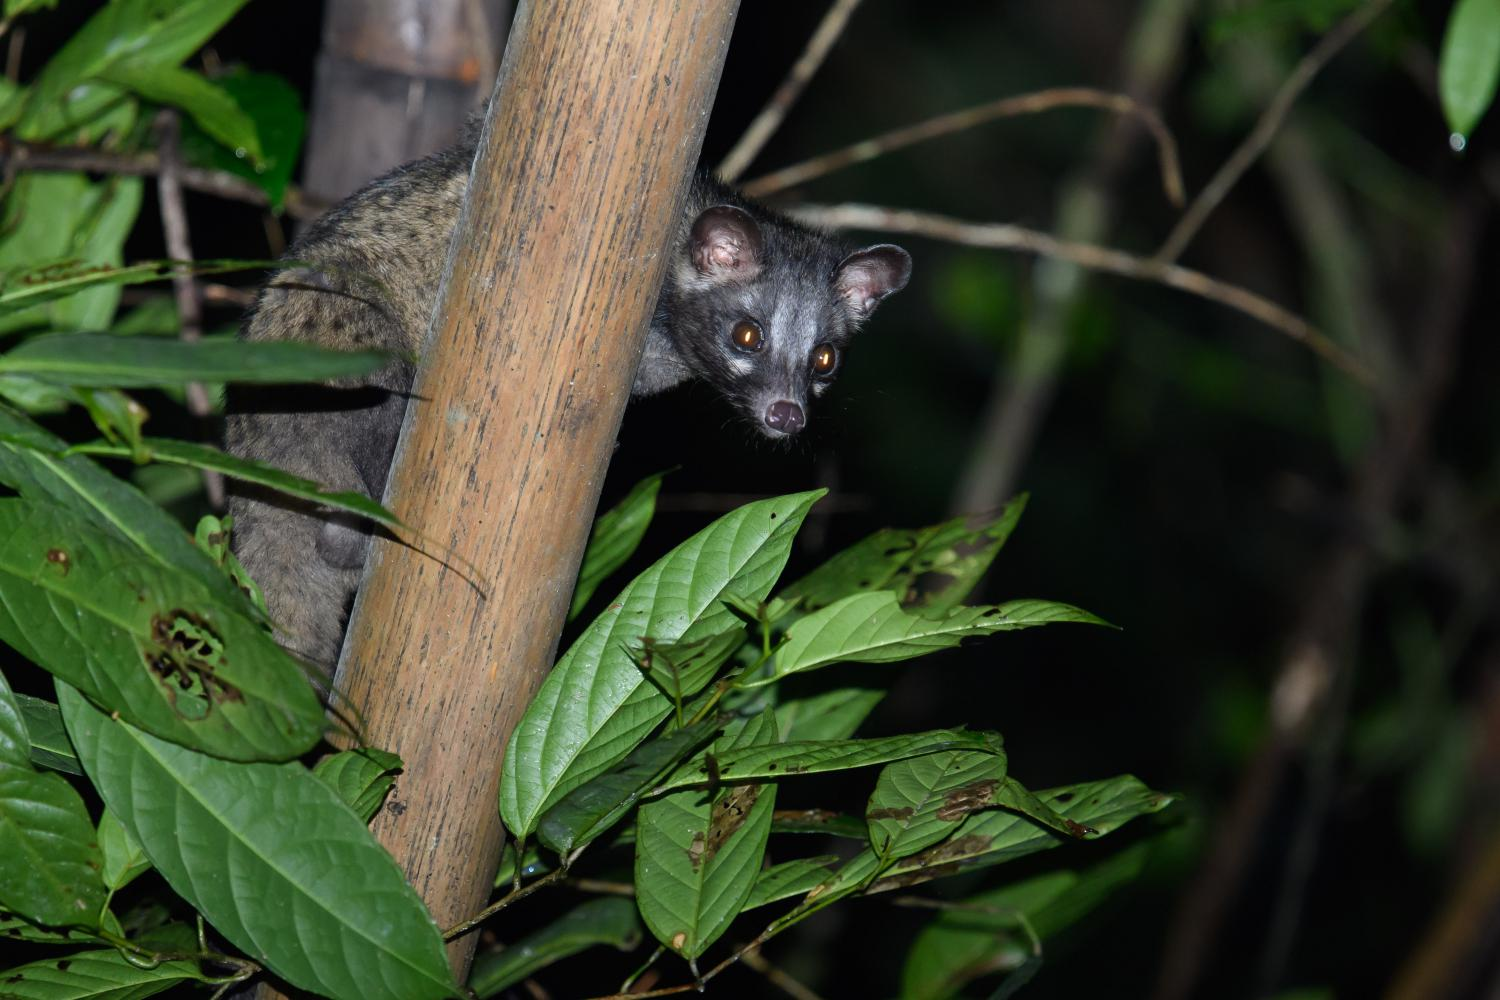Civet: (653, 177, 931, 456)
